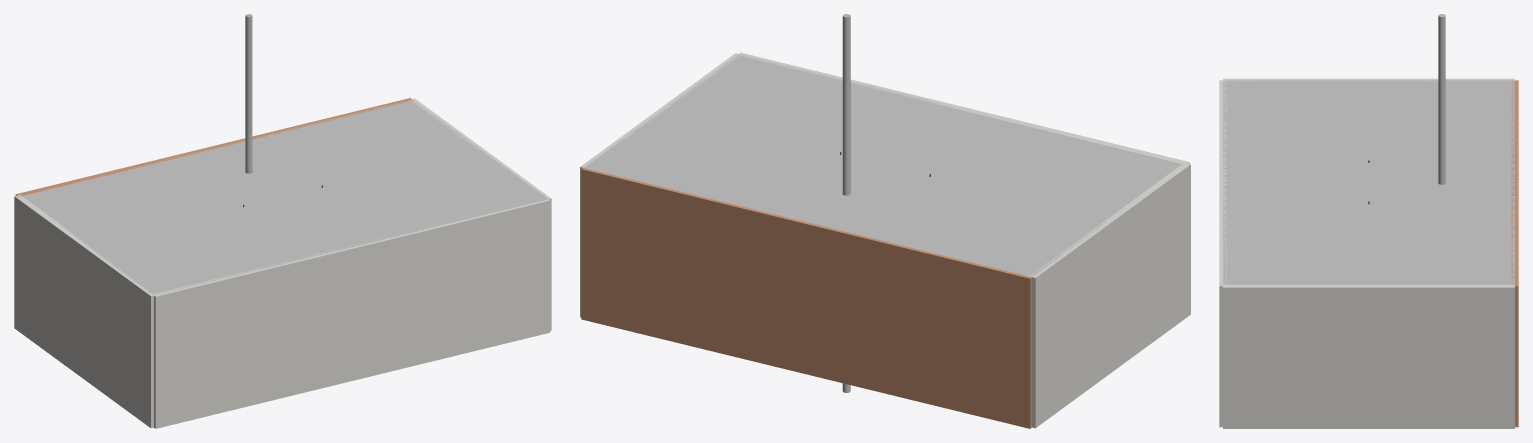
The picture shows the model from 3 angles, left to right: view 1: azimuth 30°, elevation 25°; view 2: azimuth 150°, elevation 25°; view 3: azimuth 270°, elevation 25°; orthographic projection. The views are drawn at different scales.
Parts seen in each view (by area): view 1: 墙-南, 天花板-裸露, 墙-西, 墙-北-红砖, 通风管道, 墙-东-窗户; view 2: 墙-北-红砖, 天花板-裸露, 墙-西, 墙-南, 通风管道, 墙-东-窗户; view 3: 天花板-裸露, 墙-东-窗户, 墙-南, 墙-北-红砖, 通风管道, 墙-西.
Boxes of the visible parts, x1=… form: 墙-南: x1=153, y1=199, x2=550, y2=428; 天花板-裸露: x1=22, y1=99, x2=548, y2=295; 墙-西: x1=14, y1=195, x2=153, y2=428; 墙-北-红砖: x1=15, y1=98, x2=412, y2=196; 通风管道: x1=245, y1=14, x2=252, y2=173; 墙-东-窗户: x1=409, y1=98, x2=551, y2=330; 墙-北-红砖: x1=581, y1=168, x2=1031, y2=428; 天花板-裸露: x1=584, y1=54, x2=1181, y2=276; 墙-西: x1=1030, y1=163, x2=1190, y2=428; 墙-南: x1=737, y1=52, x2=1189, y2=164; 通风管道: x1=842, y1=14, x2=850, y2=392; 墙-东-窗户: x1=580, y1=53, x2=740, y2=317; 天花板-裸露: x1=1223, y1=80, x2=1514, y2=284; 墙-东-窗户: x1=1223, y1=284, x2=1514, y2=428; 墙-南: x1=1219, y1=80, x2=1226, y2=427; 墙-北-红砖: x1=1511, y1=80, x2=1518, y2=427; 通风管道: x1=1438, y1=14, x2=1445, y2=184; 墙-西: x1=1223, y1=78, x2=1514, y2=81.
Size of the model in its own units: 10.15 by 8 by 6.15.
